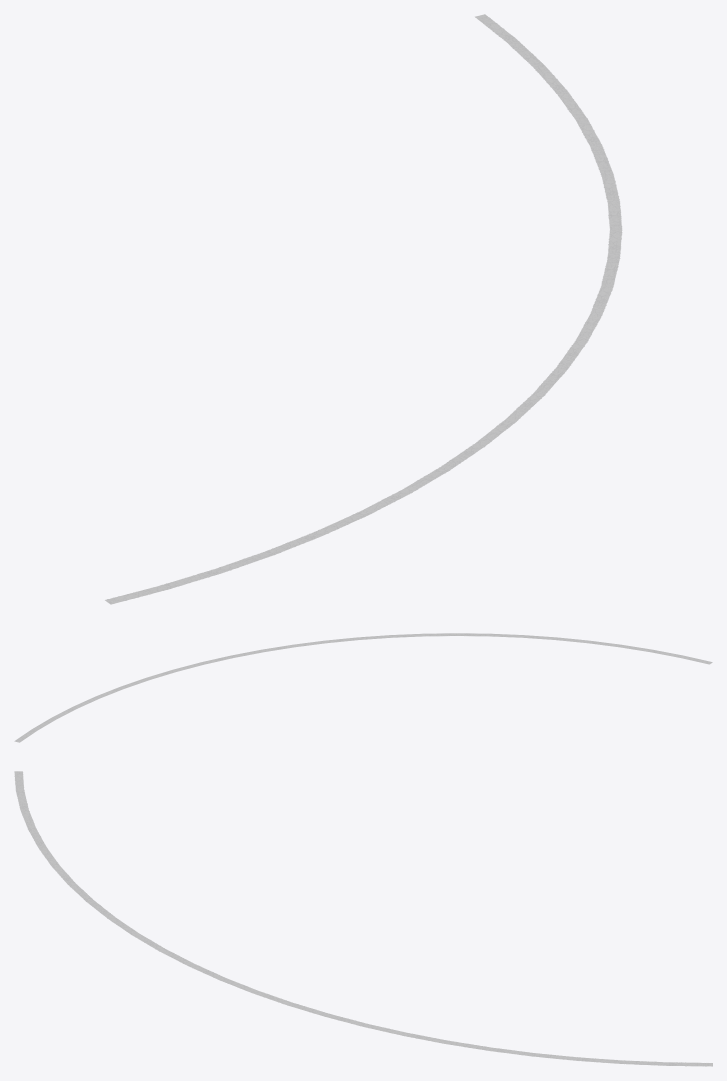
Rendered from Decal_Curve_4LaneShort_Stripe.glb.
3 renders of one model, top to bottom at view 1: azimuth 30°, elevation 25°; view 2: azimuth 150°, elevation 25°; view 3: azimuth 270°, elevation 25°, orthographic. The views are drawn at different scales.
Visible parts, largest first — view 1: Decal_Curve_4LaneShort_Stripe; view 2: Decal_Curve_4LaneShort_Stripe; view 3: Decal_Curve_4LaneShort_Stripe.
Boxes of the visible parts, box(x1,y1,x2,y2) form: Decal_Curve_4LaneShort_Stripe: box(105, 14, 621, 604); Decal_Curve_4LaneShort_Stripe: box(14, 633, 712, 742); Decal_Curve_4LaneShort_Stripe: box(14, 771, 712, 1066).
Bounding box in the file's own units: 14.8 × 0 × 14.8.
1 material, 1 textured.
